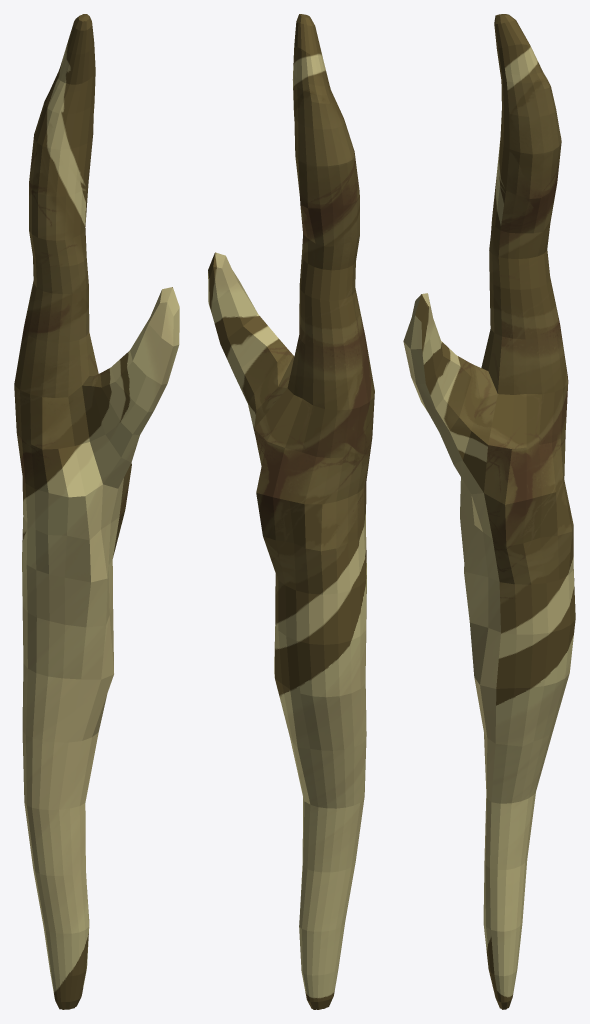
Rendered from Branch1 (1).fbx.
The picture shows the model from 3 angles, left to right: view 1: azimuth 30°, elevation 25°; view 2: azimuth 210°, elevation 25°; view 3: azimuth 270°, elevation 25°; orthographic projection.
Visible parts, largest first — view 1: branch1; view 2: branch1; view 3: branch1.
Part boxes in pixels (x1,y1,x2,y2): branch1: (14,14,179,1009); branch1: (208,14,374,1009); branch1: (403,14,575,1009).
Bounding box in the file's own units: 108 × 961 × 150.
Materials: 1 (1 with a texture image).
